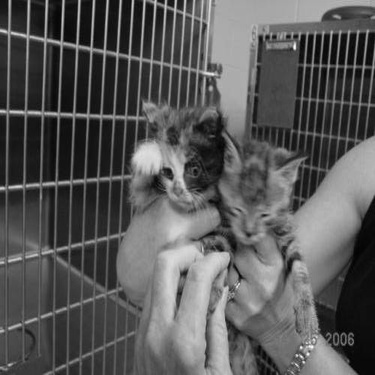cat: (109, 96, 239, 310), (223, 121, 328, 344)
